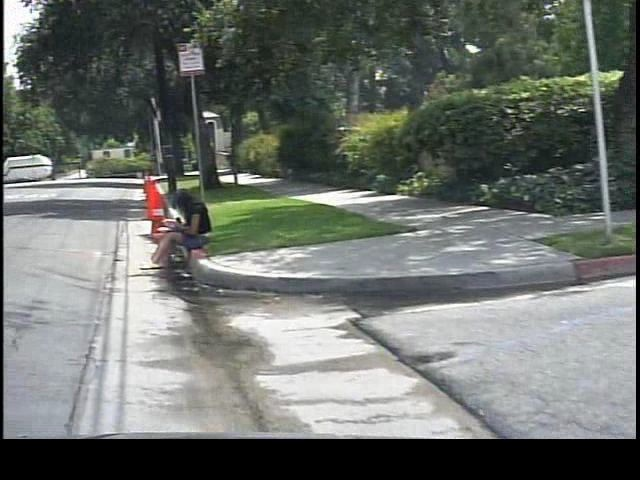person: (131, 181, 210, 274)
